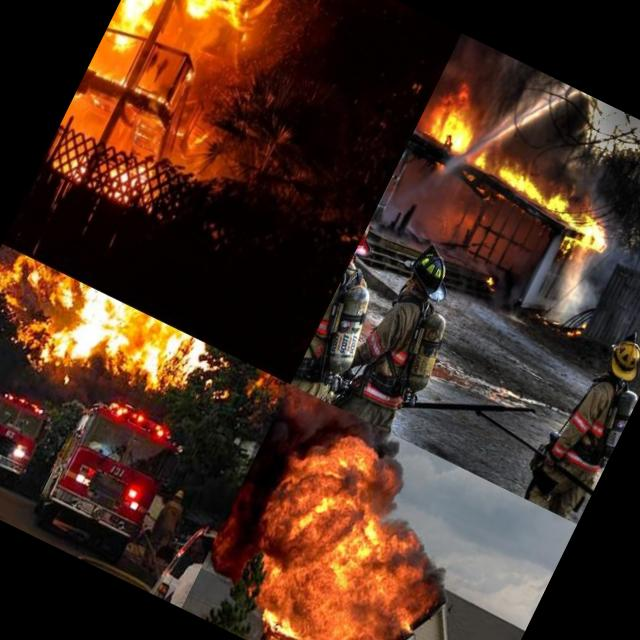fire: (219, 425, 467, 640), (0, 243, 212, 414), (62, 47, 236, 186), (459, 148, 608, 264), (414, 75, 498, 162), (156, 0, 280, 53), (99, 0, 170, 59)
smoke: (279, 384, 430, 474), (433, 32, 551, 132), (538, 227, 623, 339)
